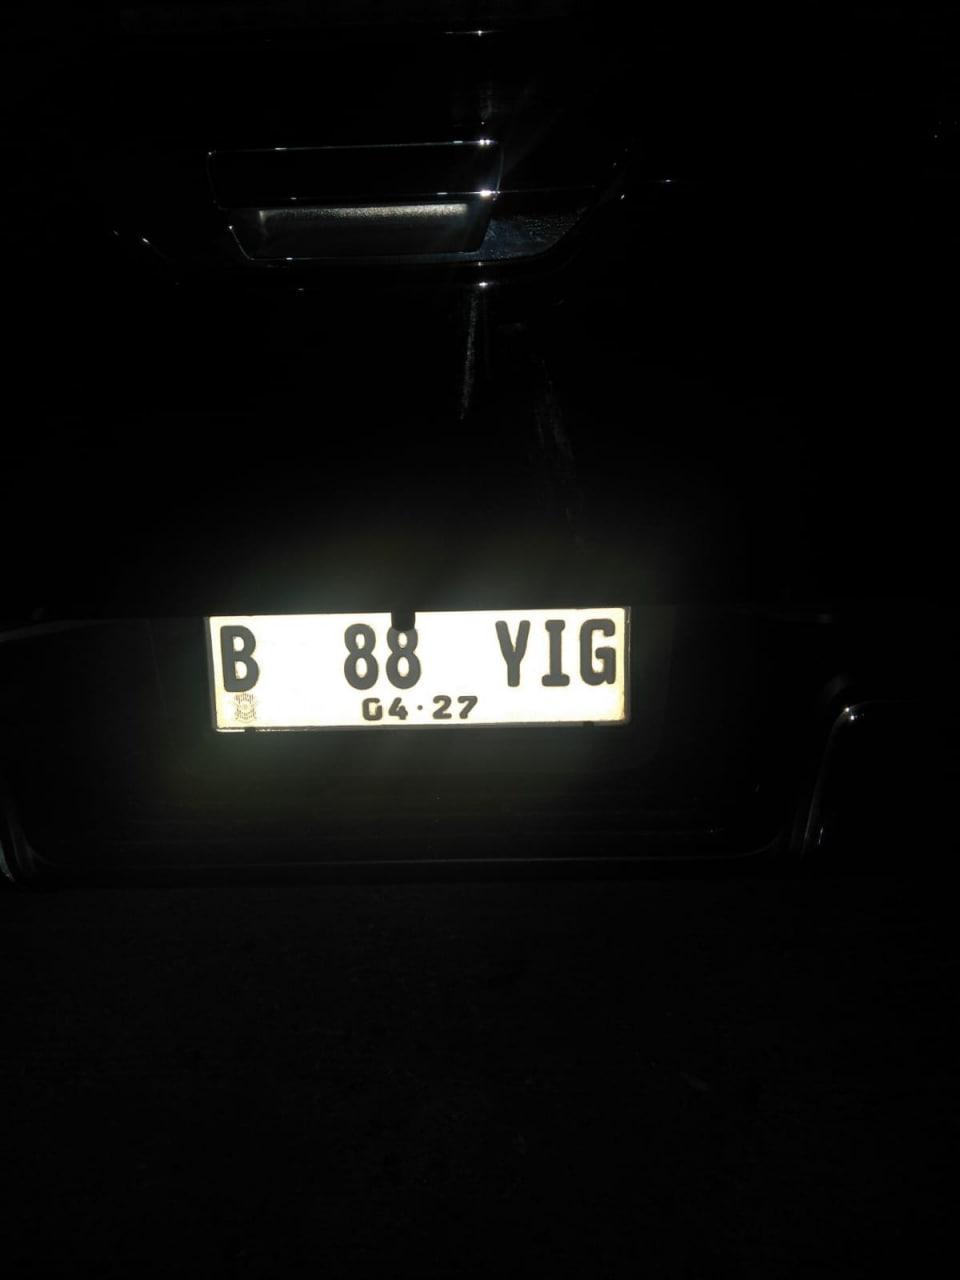plate: (219, 606, 633, 734)
